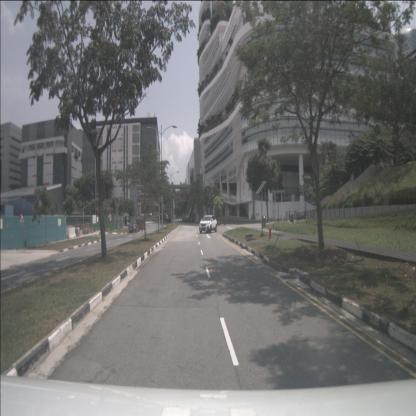barrier: (68, 227, 76, 239)
cone: (91, 226, 94, 233)
